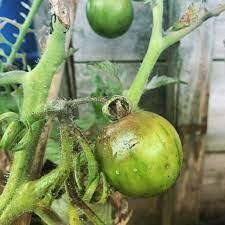tomato late blight: (96, 97, 185, 199)
